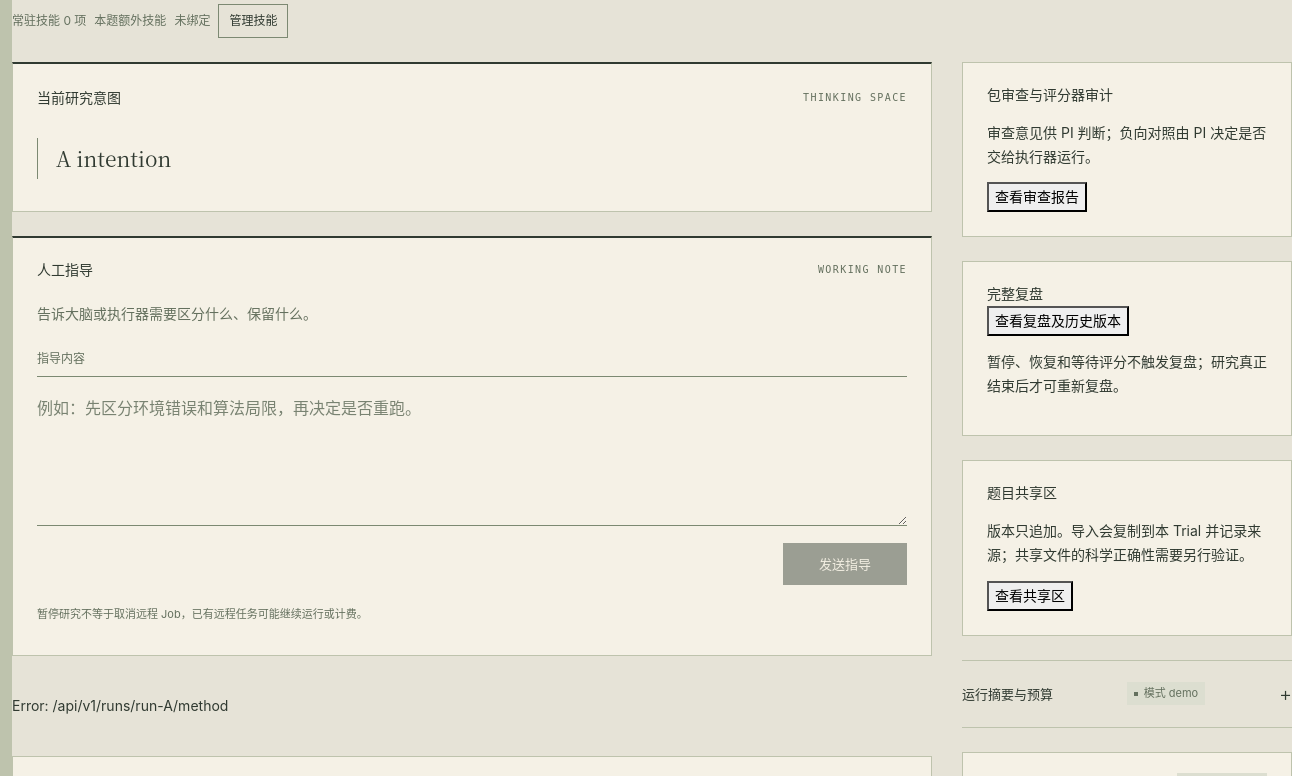
Test case: research selection and lifecycle safety › does not treat unrelated guidance.queued as consumption of user guidance
The width and height of the screenshot is (1292, 776).
(page scrolled)
Expected: the text "A intention" is shown, left=56, top=143, right=171, bottom=173
Type "check my evidence" into the text box labelled "指导内容" at (472,451), box left=37, top=376, right=907, bottom=526
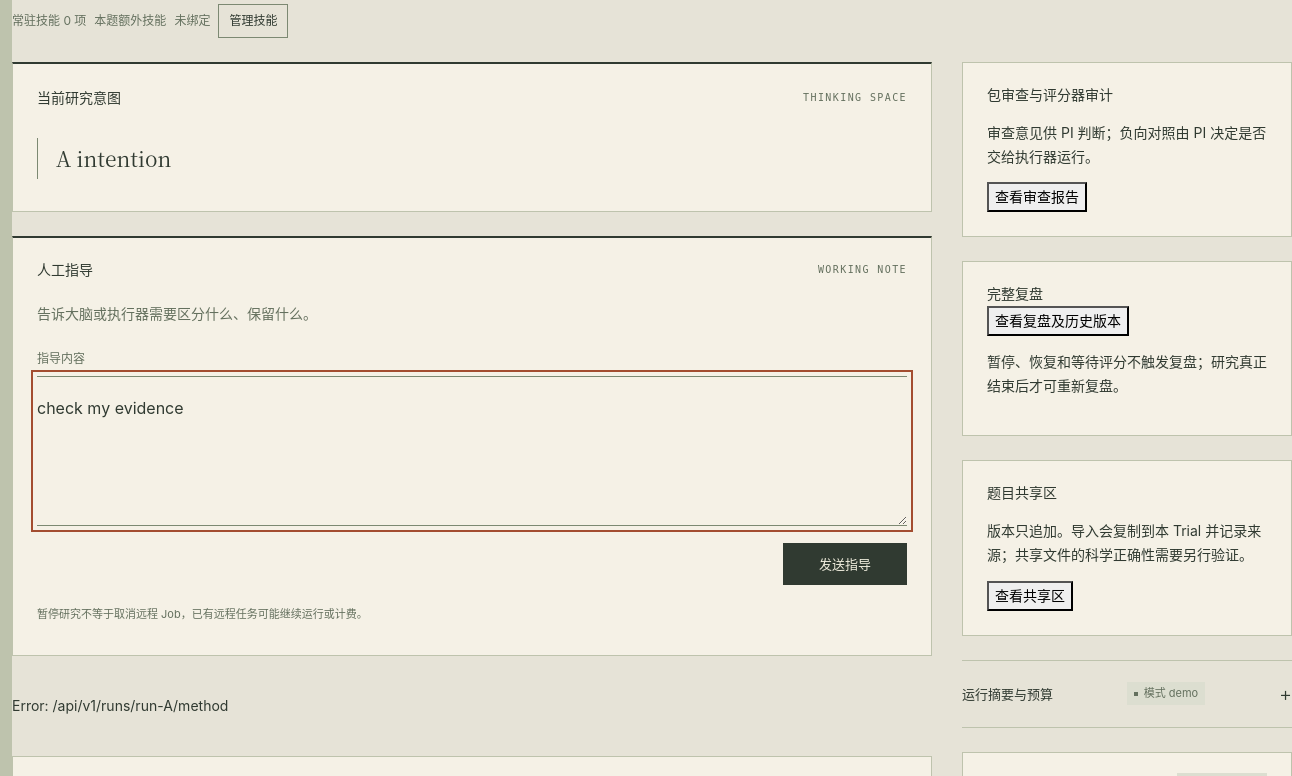
Click the button "发送指导" at (845,564), box left=783, top=543, right=907, bottom=585
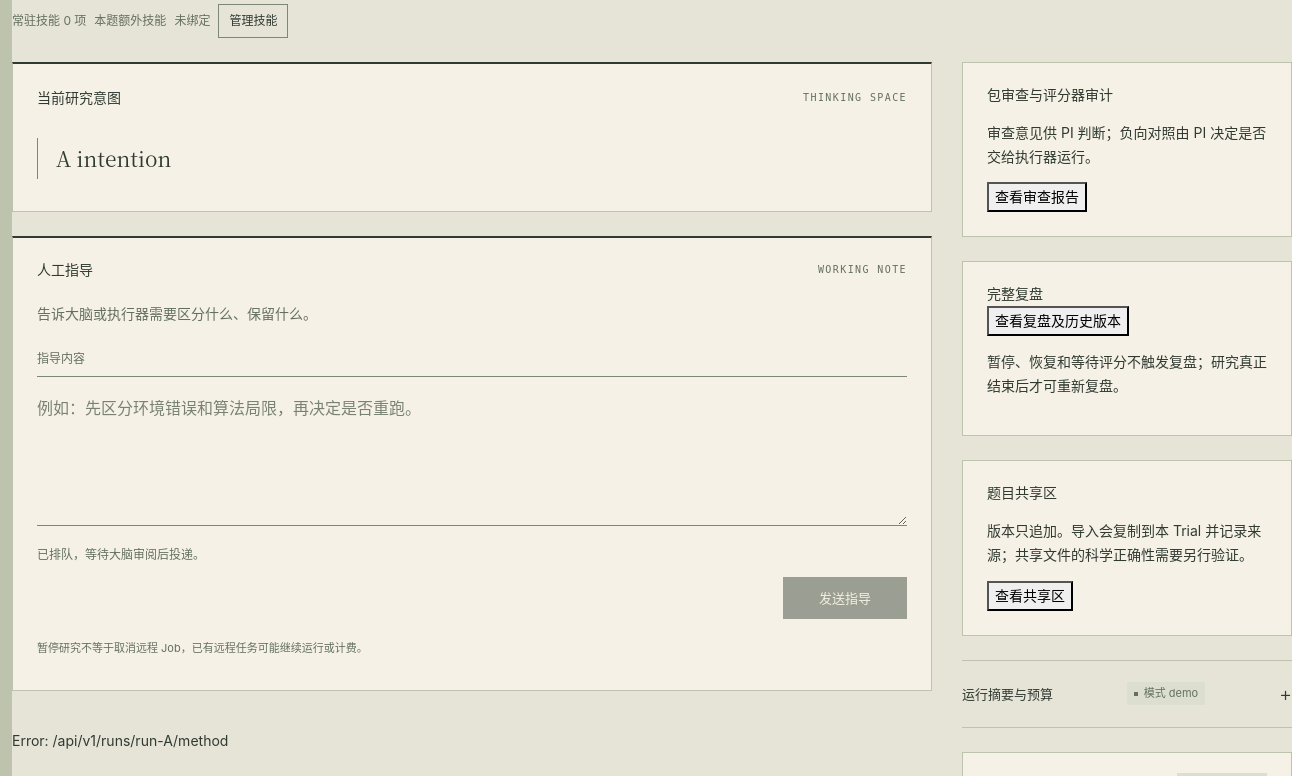
Result: the text "已排队，等待大脑审阅后投递。" is shown at left=37, top=547, right=205, bottom=562
